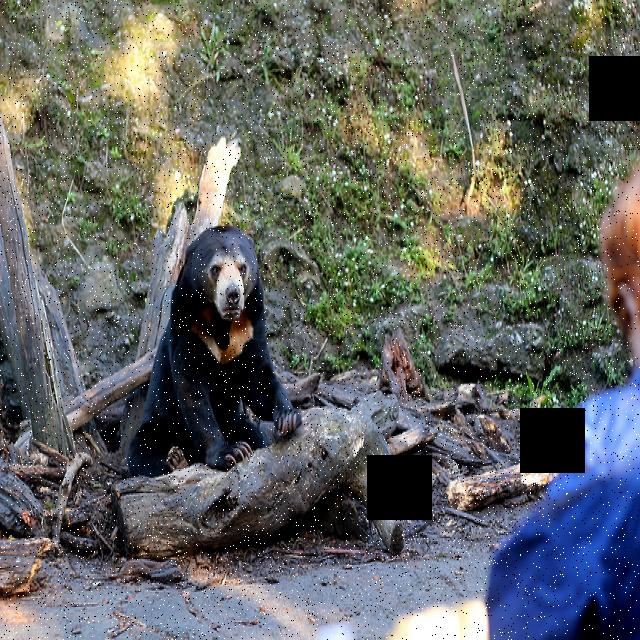Bear: (126, 220, 308, 482)
